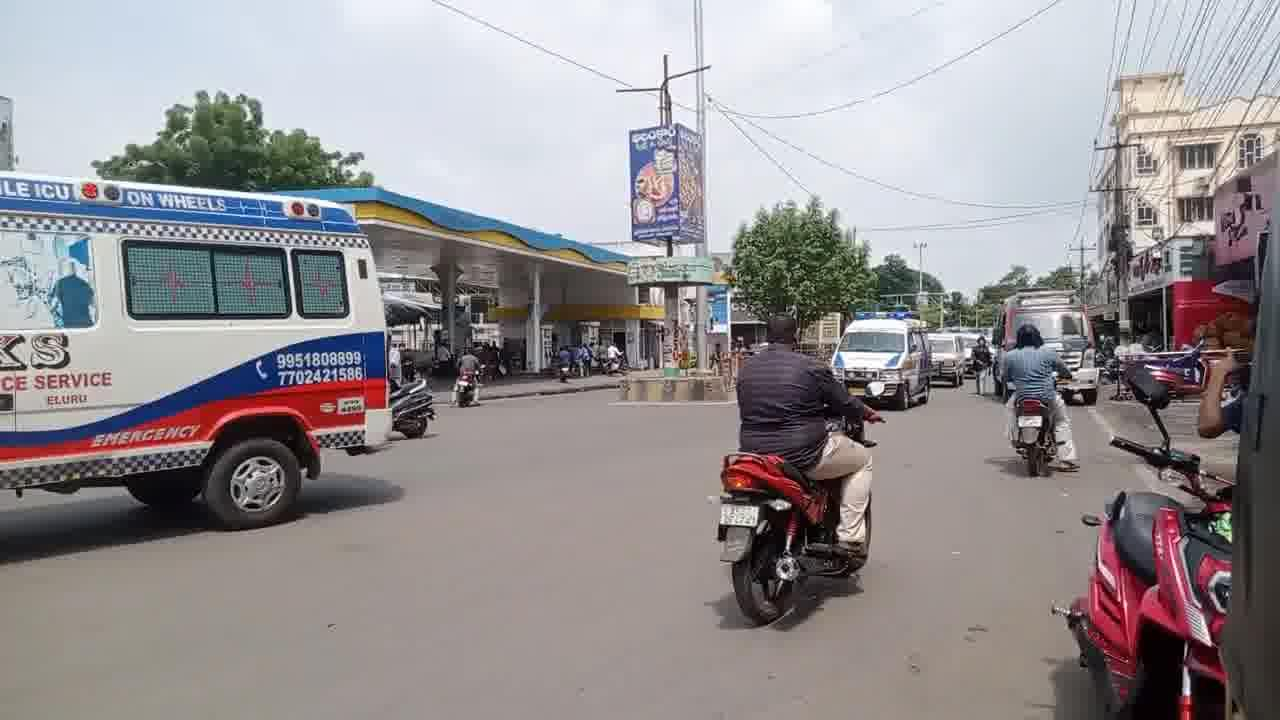AMBULANCE: (822, 290, 933, 402), (989, 277, 1107, 327), (945, 315, 983, 383)
